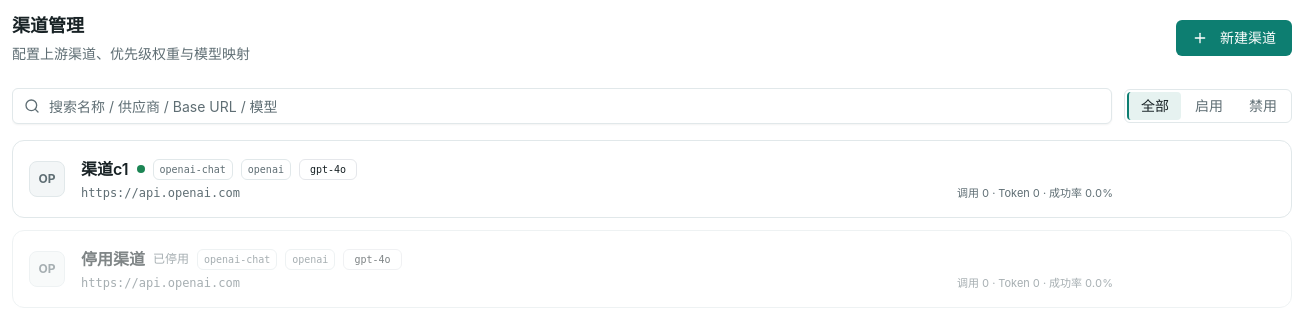
Scenario: ChannelsPage 渠道页改版（Task 8） › 状态筛选使用 SegmentedTabs：tablist 选项数与 STATUS_OPTIONS 一致，all 语义往返
Check: the heading "渠道c1" is shown, box top-left (81, 157), bottom-right (129, 181)
Check: the heading "停用渠道" is shown, box top-left (81, 247), bottom-right (145, 271)
切到 启用：只留启用卡
Click the tab "启用": (1208, 106) top-left (1181, 92), bottom-right (1235, 120)
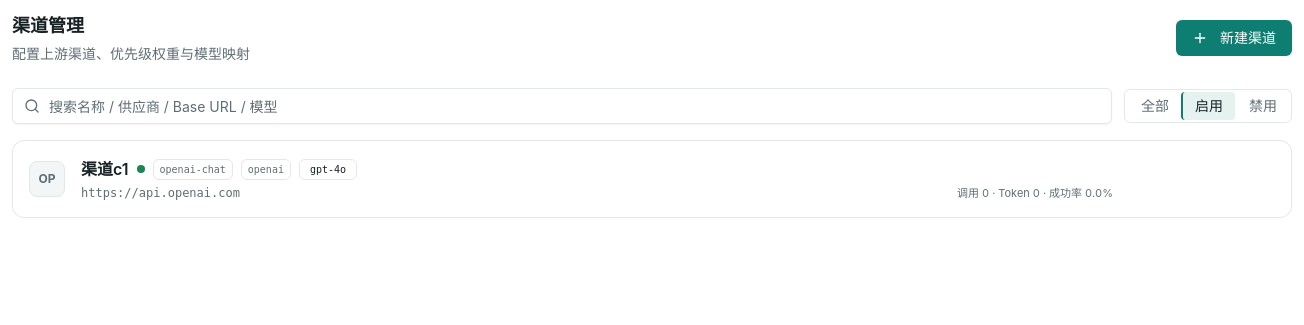
Check: the heading "渠道c1" is shown, box top-left (81, 157), bottom-right (129, 181)
Check: the heading "停用渠道" is gone
切回 全部（"all" 值语义往返）
Click the tab "全部": (1154, 106) top-left (1127, 92), bottom-right (1181, 120)
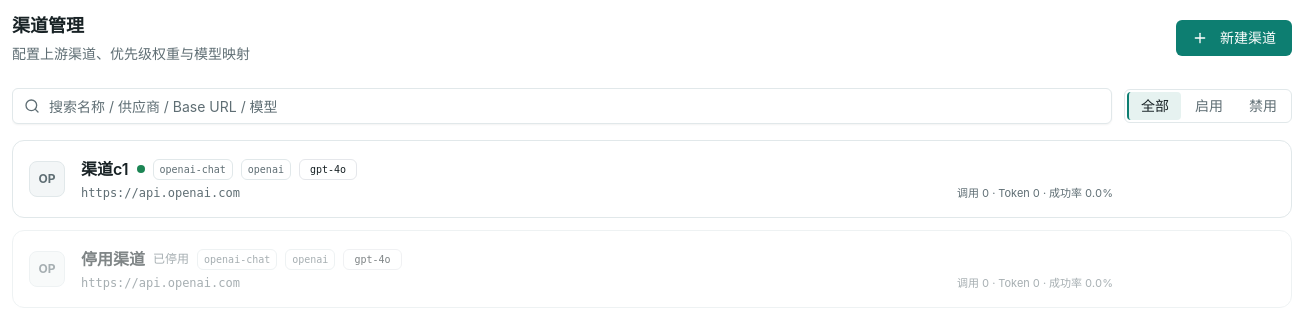
Check: the heading "渠道c1" is shown, box top-left (81, 157), bottom-right (129, 181)
Check: the heading "停用渠道" is shown, box top-left (81, 247), bottom-right (145, 271)
